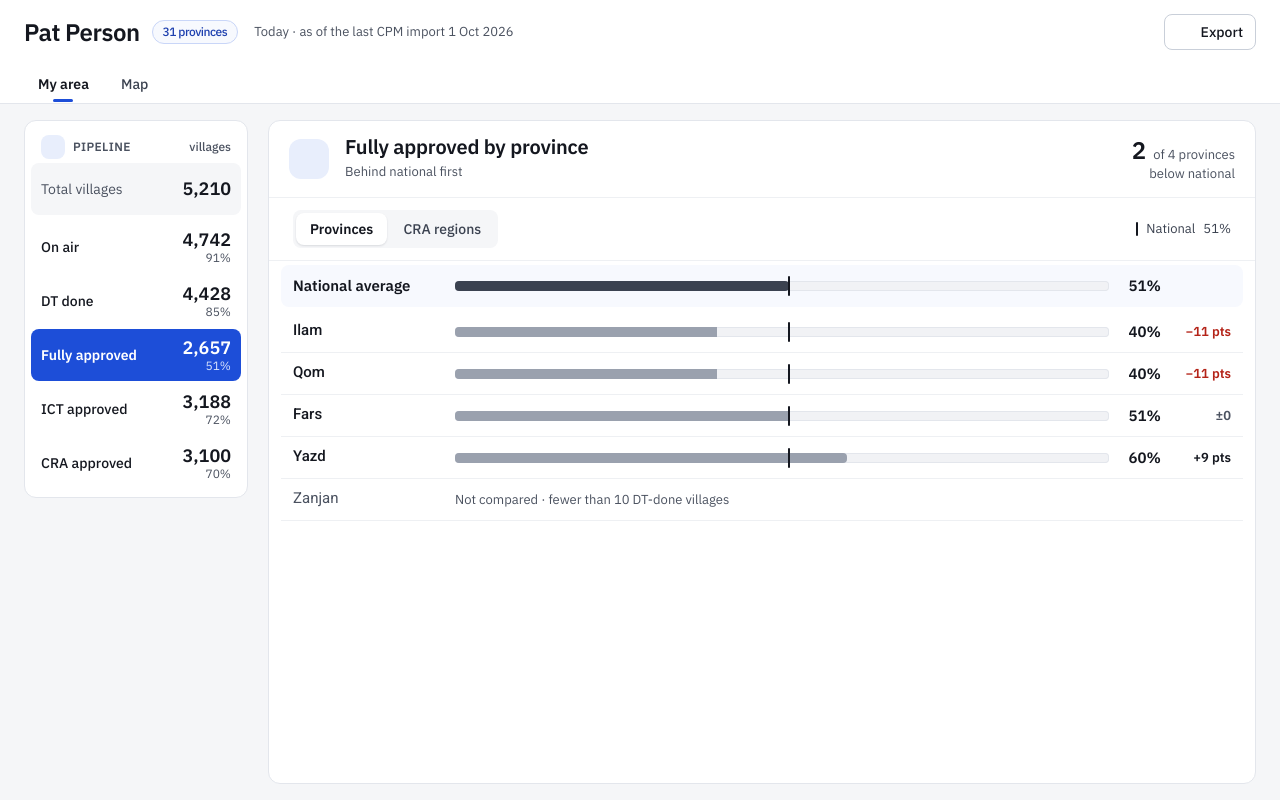
it: Area › offers the breakdowns the server allows, and asks for the one chosen
The width and height of the screenshot is (1280, 800).
What coordinates should you click on to do the following:
click the button "CRA regions"
I would click on:
 (442, 229)
Its box is [389,213,495,245].
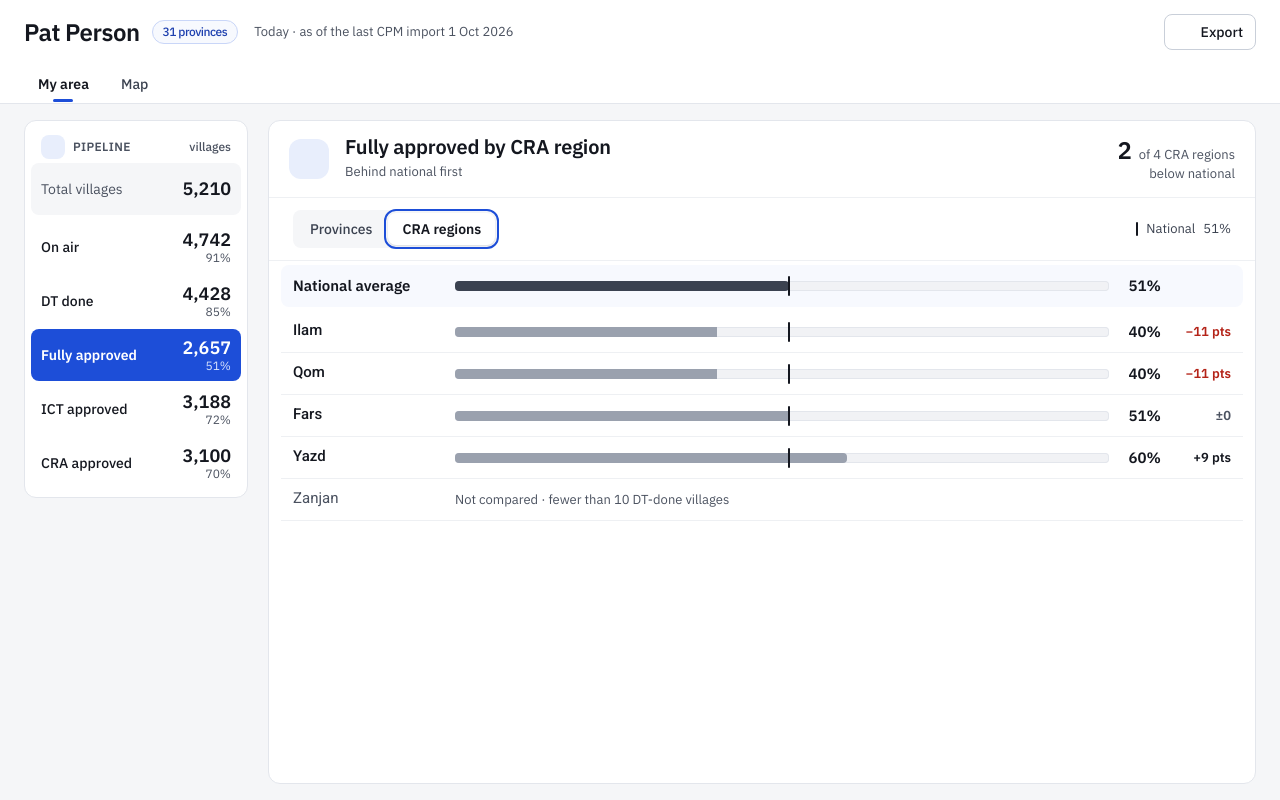
Check: the heading "Fully approved by CRA region" is shown, box [345,135,611,159]
